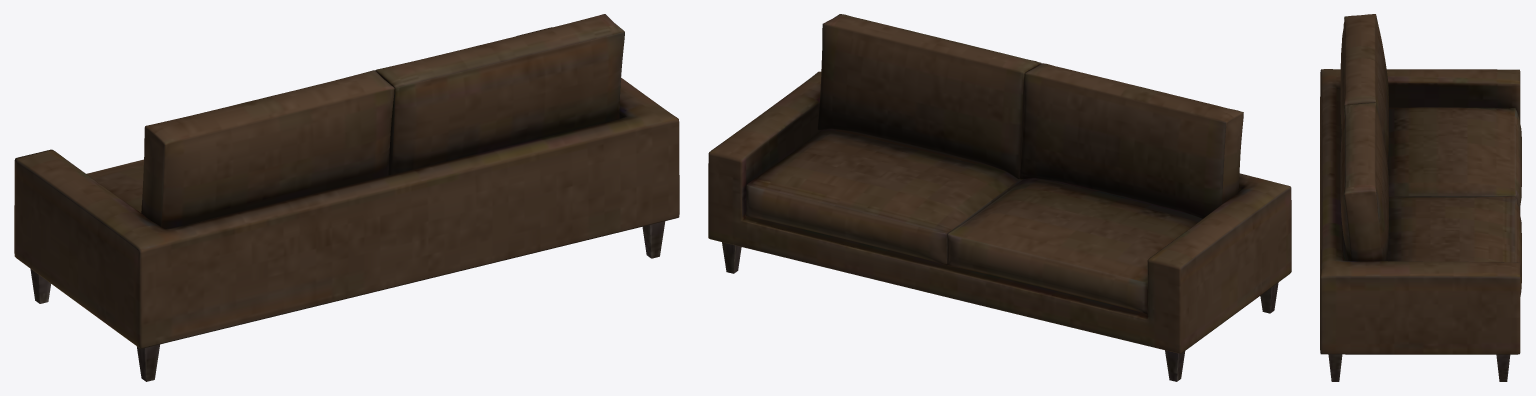
File: Sofa36.glb
3 views of the same model, side by side, from view 1: azimuth 30°, elevation 25°; view 2: azimuth 150°, elevation 25°; view 3: azimuth 270°, elevation 25° (orthographic). The views are drawn at different scales.
Visible parts, largest first — view 1: Sofa36_model; view 2: Sofa36_model; view 3: Sofa36_model.
Boxes of the visible parts, bbox=[...] form: Sofa36_model: bbox=[14, 14, 679, 381]; Sofa36_model: bbox=[708, 14, 1291, 381]; Sofa36_model: bbox=[1320, 14, 1521, 381].
Bounding box in the file's own units: 4.38 × 1.8 × 1.8.
Materials: 1 (1 with a texture image).
